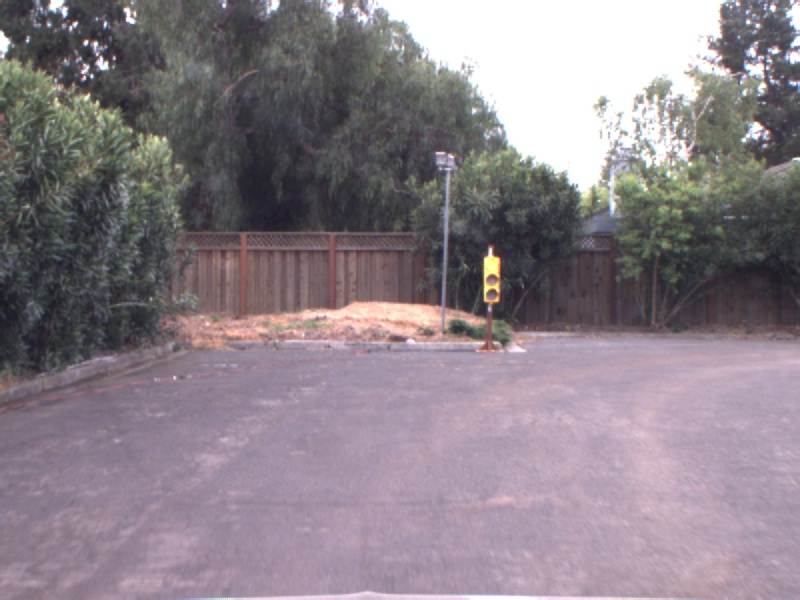red: (478, 250, 504, 306)
